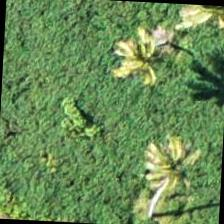Kelapa_Sawit: (99, 8, 194, 103), (136, 127, 224, 222), (173, 3, 223, 54)
